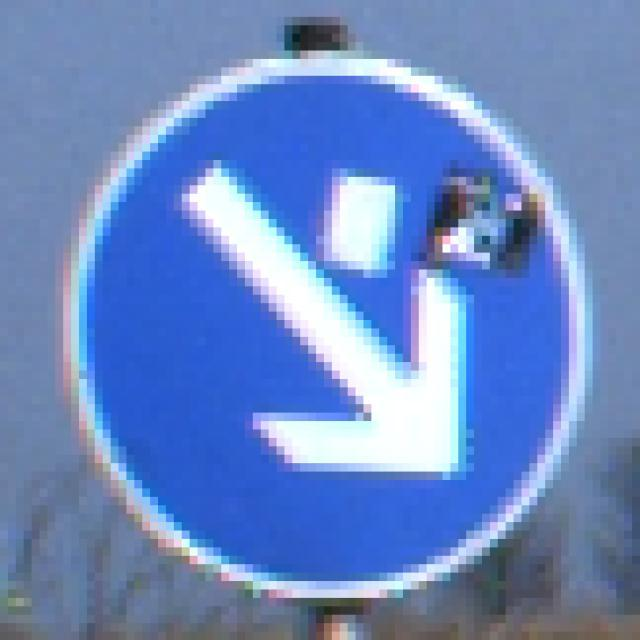compulsary keep right: (47, 45, 602, 608)
